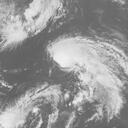cyclone: (46, 37, 123, 110)
